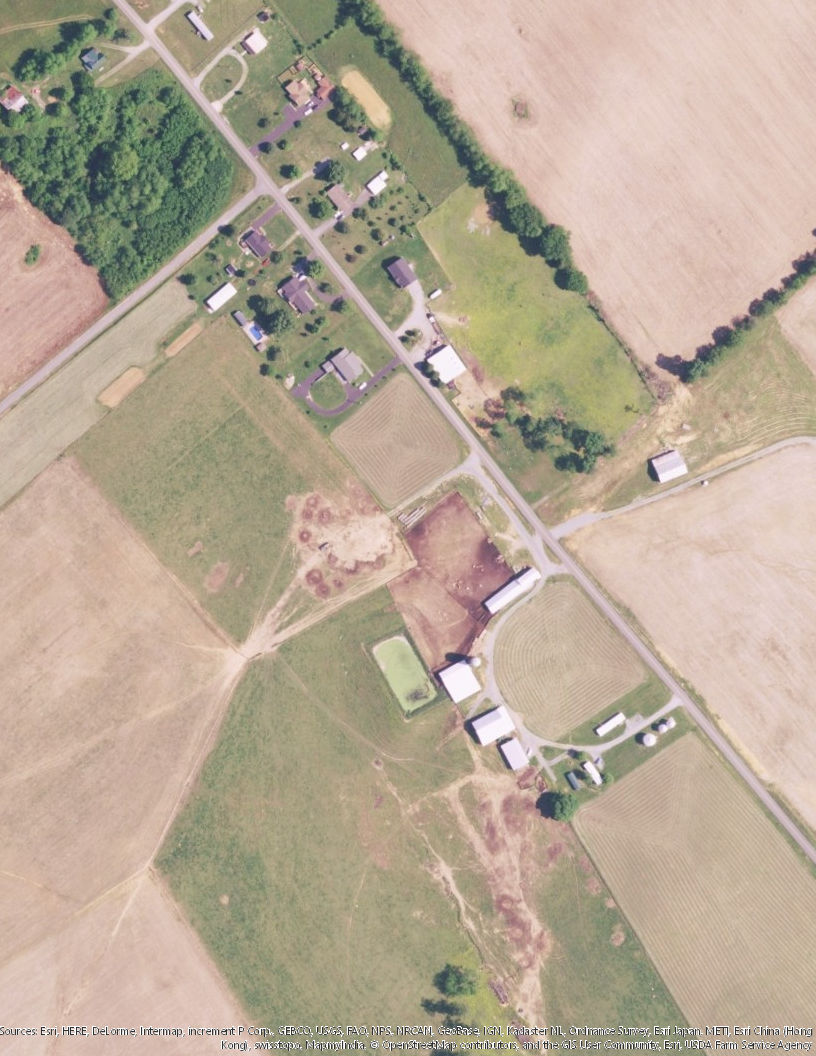cafo: (480, 566, 541, 615), (471, 703, 516, 752), (439, 660, 481, 705), (430, 345, 466, 382), (499, 738, 531, 771), (594, 713, 627, 737)
